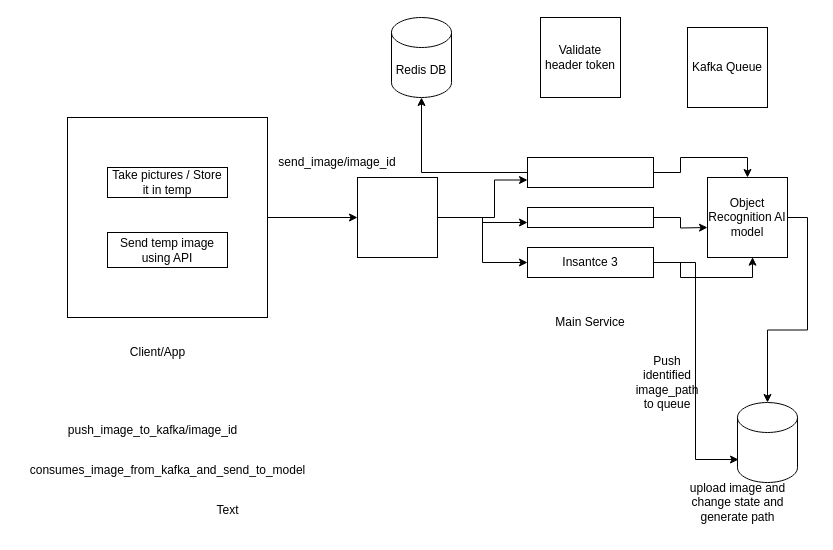
Some shapes in this 833 by 550 pixel diagram are drawn without their labels. The shapes that lost their labels are listed below. From the top down, each one's box as (x1, y1, x2, y2) in pixels, then its label:
(526, 156, 654, 188): Insantce 1
(356, 176, 438, 258): Load Balancer
(526, 206, 654, 228): Insantce 2
(736, 402, 798, 482): image S3 bucket
